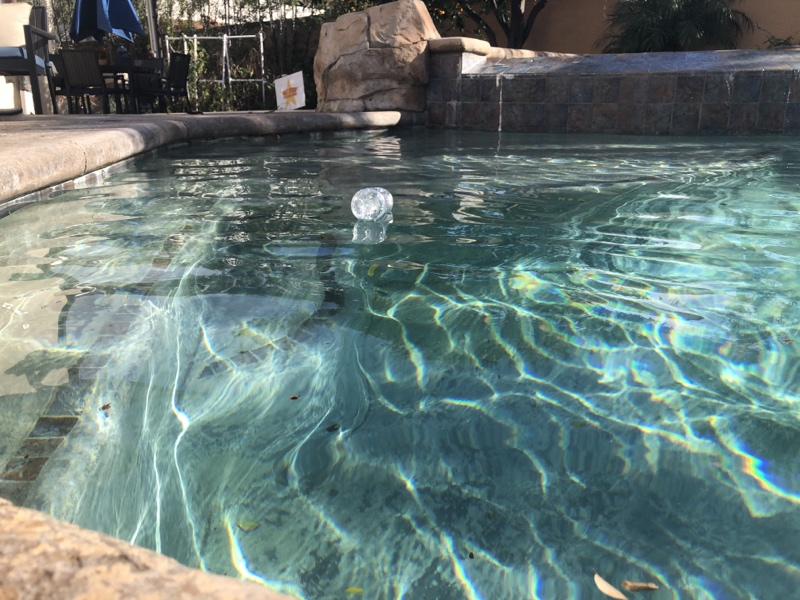Plastic Bottle: (347, 185, 397, 223)
